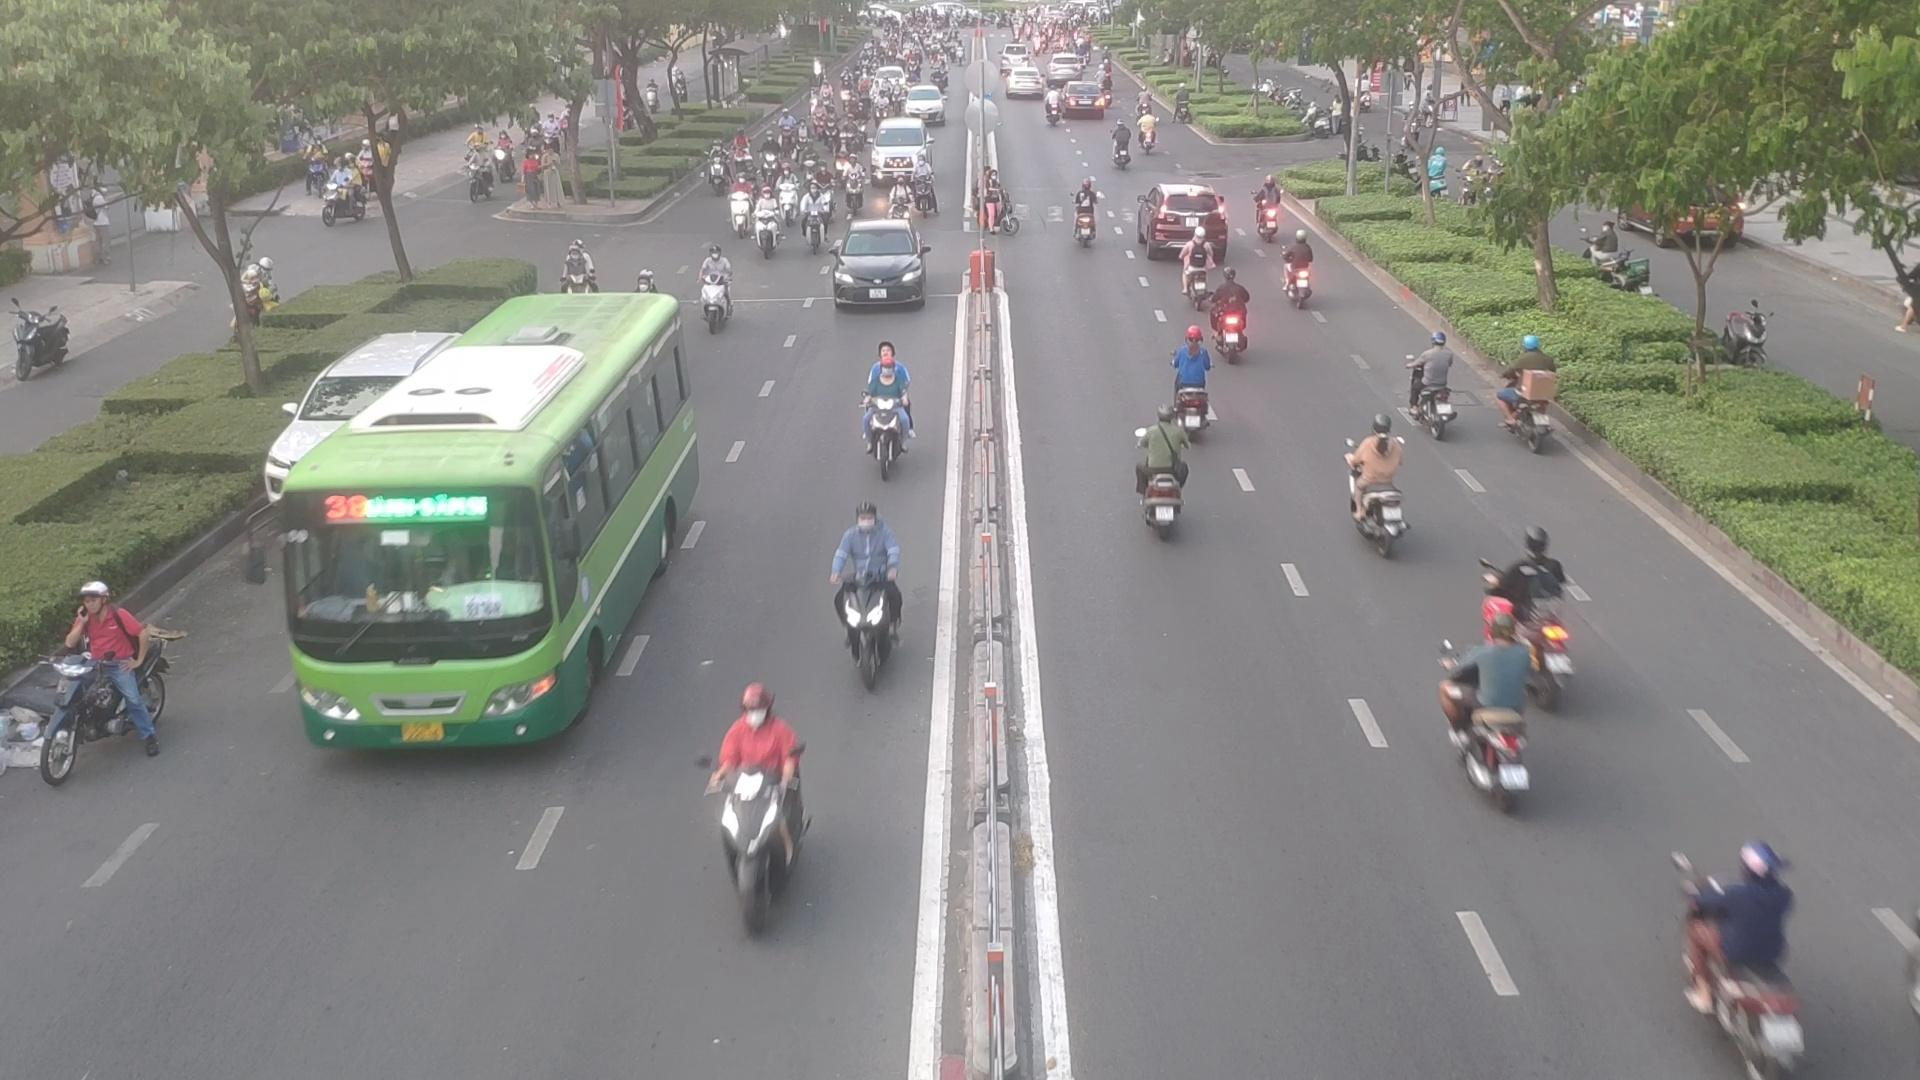car: (277, 301, 688, 749), (825, 222, 928, 311), (1134, 186, 1228, 264)
motorbike: (1658, 831, 1815, 1076), (688, 698, 811, 920), (28, 587, 171, 753), (1473, 533, 1596, 704), (1436, 624, 1548, 806), (825, 514, 909, 680), (1333, 413, 1415, 549), (1122, 410, 1189, 533), (851, 353, 918, 473), (1406, 335, 1472, 433), (1211, 273, 1265, 361), (694, 248, 741, 330), (1276, 241, 1319, 313), (1064, 181, 1105, 251), (1249, 185, 1291, 244), (1104, 124, 1134, 167)
